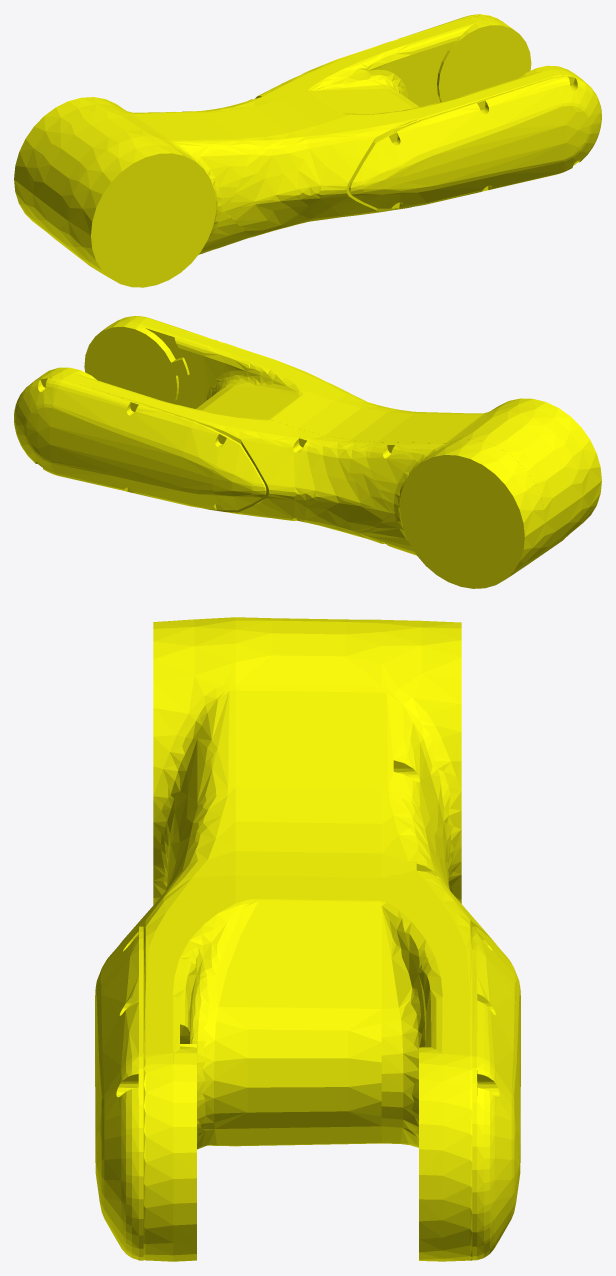
The picture shows the model from 3 angles, top to bottom: view 1: azimuth 30°, elevation 25°; view 2: azimuth 150°, elevation 25°; view 3: azimuth 270°, elevation 25°; orthographic projection. The views are drawn at different scales.
Parts seen in each view (by area): view 1: node; view 2: node; view 3: node.
Part boxes in pixels (x1,y1,x2,y2): node: (14, 14, 601, 287); node: (14, 316, 601, 588); node: (95, 617, 520, 1261).
Bounding box in the file's own units: 717 × 181 × 260.
